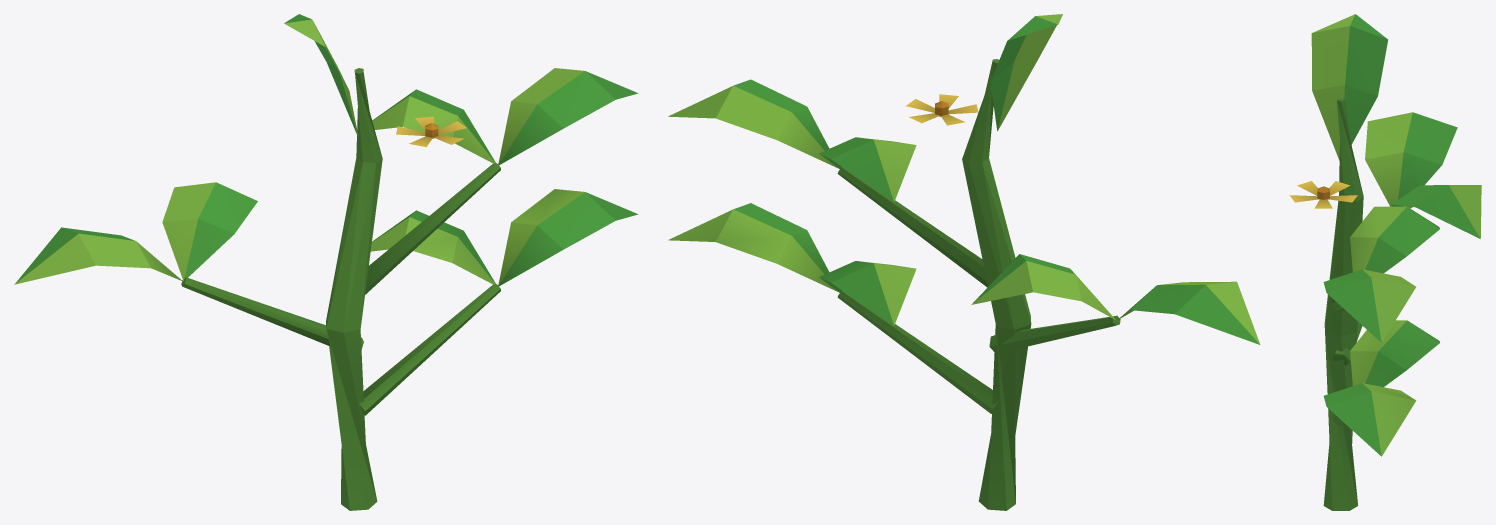
The model's file is Tomato_2.glb.
3 views of the same model, side by side, from view 1: azimuth 30°, elevation 25°; view 2: azimuth 150°, elevation 25°; view 3: azimuth 270°, elevation 25° (orthographic). The views are drawn at different scales.
Parts seen in each view (by area): view 1: Tomato_2; view 2: Tomato_2; view 3: Tomato_2.
Part boxes in pixels (x1,y1,x2,y2): Tomato_2: [14, 14, 638, 510]; Tomato_2: [668, 14, 1260, 510]; Tomato_2: [1289, 14, 1481, 510].
Bounding box in the file's own units: 0.9484 × 0.7394 × 0.2788.
